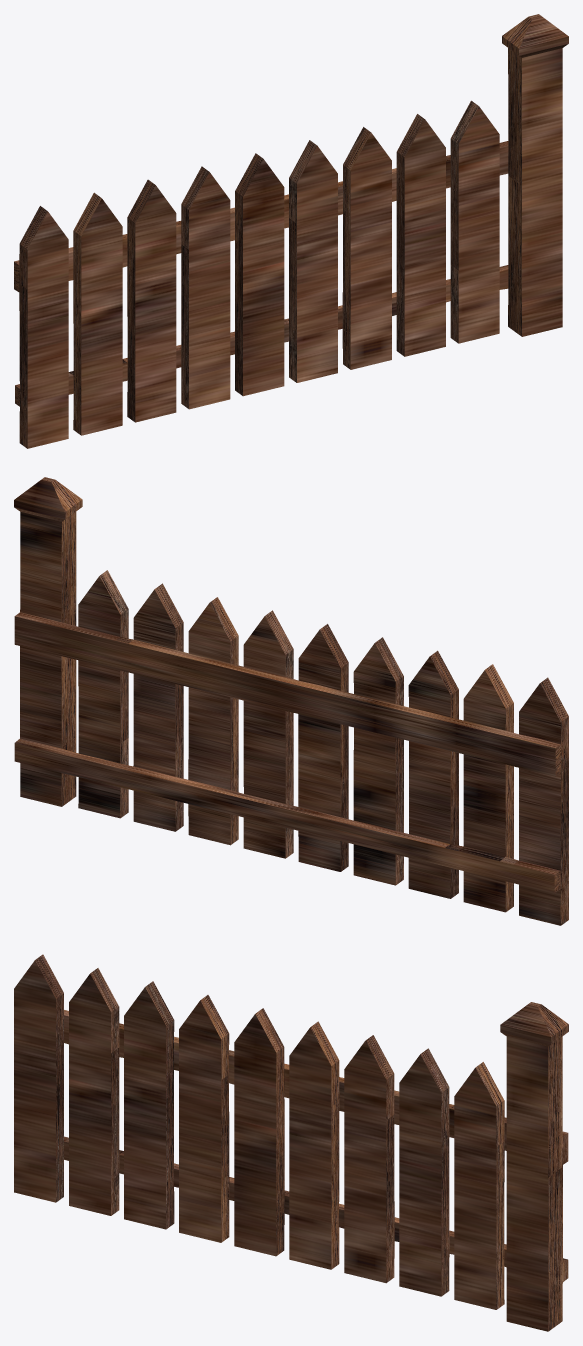
Rendered from Reja_V003_Finish.fbx.
3 renders of one model, top to bottom at view 1: azimuth 30°, elevation 25°; view 2: azimuth 150°, elevation 25°; view 3: azimuth 330°, elevation 25°, orthographic. The views are drawn at different scales.
Visible parts, largest first — view 1: Cube.012; view 2: Cube.012; view 3: Cube.012.
Part boxes in pixels (x1,y1,x2,y2): Cube.012: (14,14,568,448); Cube.012: (14,477,568,925); Cube.012: (14,954,568,1331).
Bounding box in the file's own units: 421 × 234 × 28.66.
